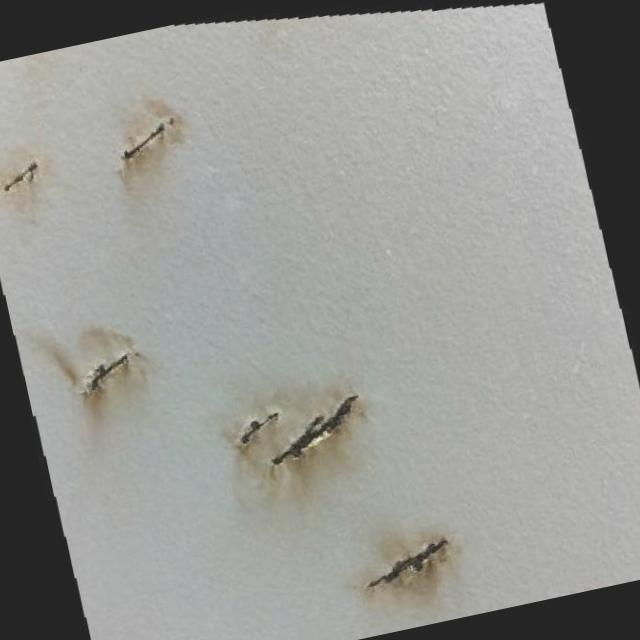crack: (265, 399, 357, 468), (368, 544, 438, 584), (74, 352, 136, 396), (121, 116, 176, 161), (234, 412, 275, 442), (0, 163, 40, 191)
